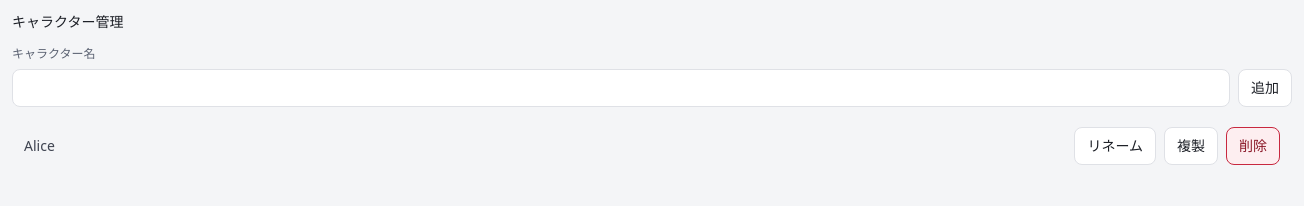
Test: CharacterManager / rename transitions › opens a rename form pre-filled with the current name when リネーム is clicked
Click the button "リネーム".
click(1115, 146)  # box [1074,127,1156,165]
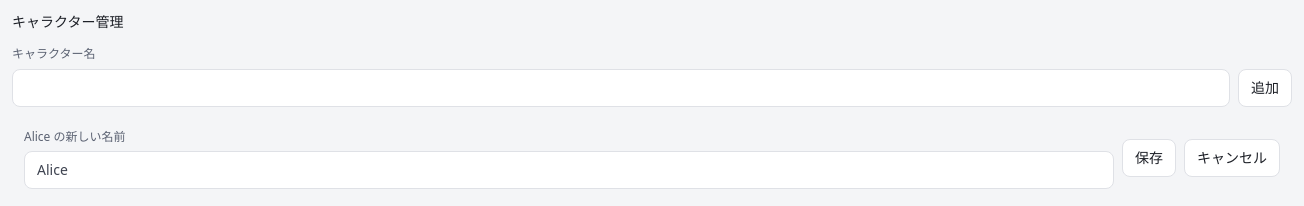
Result: the field labelled "Alice の新しい名前" holds "Alice" at [24,151,1114,190]
